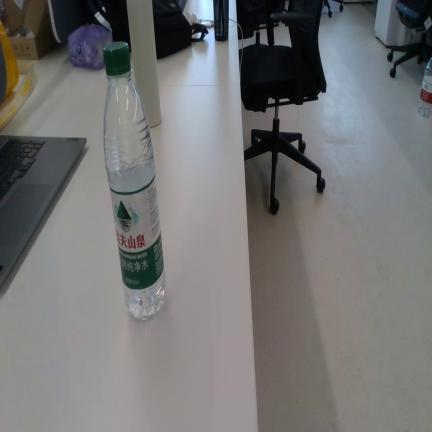bottle: (103, 42, 165, 319), (419, 58, 432, 117)
